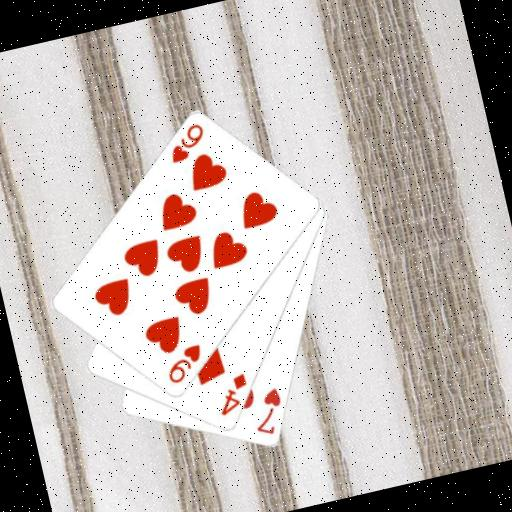4D: (210, 370, 256, 420)
7H: (245, 384, 290, 441)
9H: (159, 340, 209, 388), (161, 120, 211, 167)
